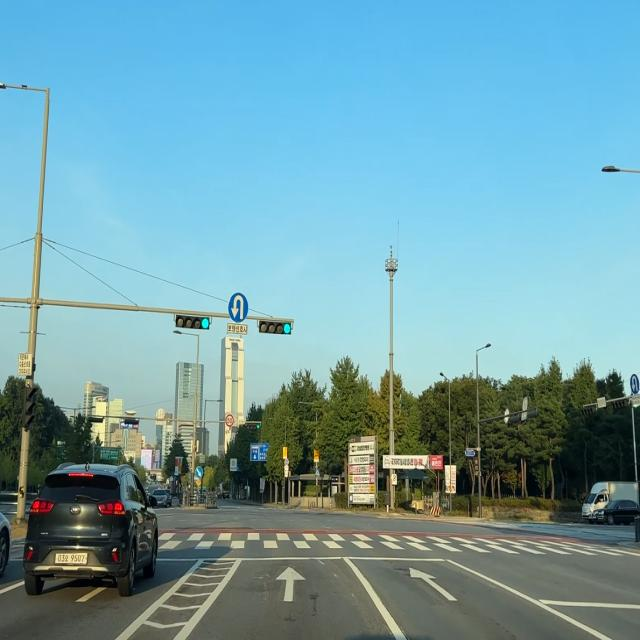Green Light: (201, 317, 209, 330), (283, 322, 291, 334)
